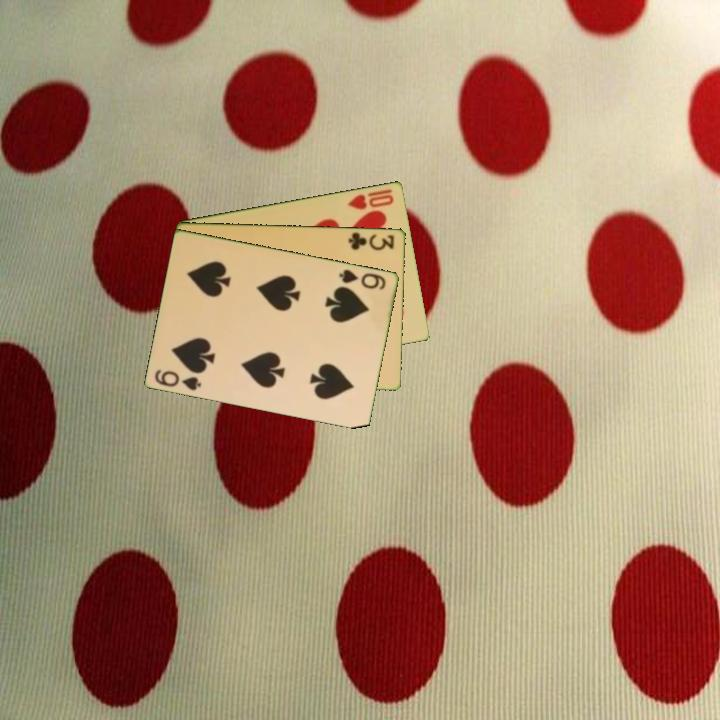10h: (344, 190, 397, 212)
3c: (345, 228, 397, 253)
6s: (336, 265, 389, 293), (151, 366, 204, 393)
